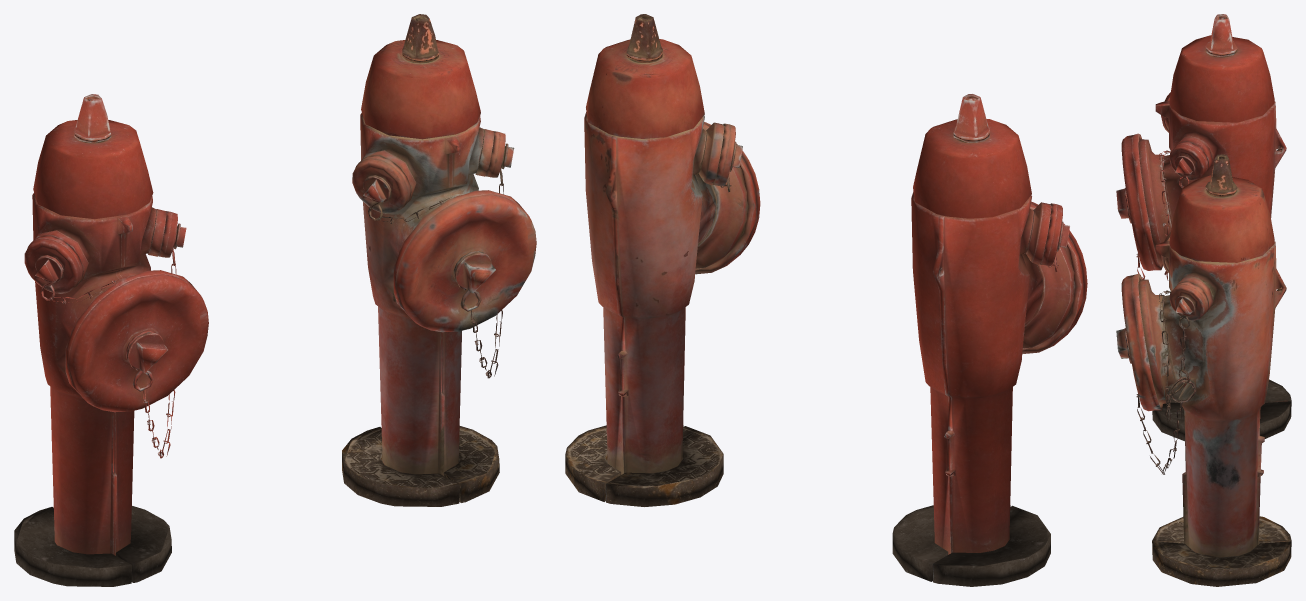
Rendered from fire_hydrant.glb.
3 renders of one model, left to right at view 1: azimuth 30°, elevation 25°; view 2: azimuth 150°, elevation 25°; view 3: azimuth 270°, elevation 25°, orthographic. The views are drawn at different scales.
Visible parts, largest first — view 1: fire_hydrant, fire_hydrant_aged, fire_hydrant_cap_01, fire_hydrant_cap_01_aged, fire_hydrant_cap_03, fire_hydrant_cap_03_aged, fire_hydrant_chain, fire_hydrant_chain_aged, fire_hydrant_cap_02_aged, fire_hydrant_cap_02; view 2: fire_hydrant, fire_hydrant_aged, fire_hydrant_cap_01, fire_hydrant_cap_01_aged, fire_hydrant_cap_03, fire_hydrant_cap_03_aged; view 3: fire_hydrant_aged, fire_hydrant, fire_hydrant_cap_01_aged, fire_hydrant_cap_01, fire_hydrant_chain_aged, fire_hydrant_cap_02, fire_hydrant_cap_02_aged, fire_hydrant_chain.
Part boxes in pixels (<box>): fire_hydrant: <box>14,94,171,586</box>; fire_hydrant_aged: <box>342,14,499,506</box>; fire_hydrant_cap_01: <box>65,270,208,412</box>; fire_hydrant_cap_01_aged: <box>393,190,536,332</box>; fire_hydrant_cap_03: <box>24,235,83,293</box>; fire_hydrant_cap_03_aged: <box>352,155,411,213</box>; fire_hydrant_chain: <box>40,233,176,458</box>; fire_hydrant_chain_aged: <box>368,148,504,378</box>; fire_hydrant_cap_02_aged: <box>486,131,514,177</box>; fire_hydrant_cap_02: <box>158,211,186,257</box>; fire_hydrant: <box>892,94,1075,586</box>; fire_hydrant_aged: <box>565,14,748,506</box>; fire_hydrant_cap_01: <box>1022,201,1087,353</box>; fire_hydrant_cap_01_aged: <box>695,122,760,274</box>; fire_hydrant_cap_03: <box>1040,203,1069,266</box>; fire_hydrant_cap_03_aged: <box>713,123,742,186</box>; fire_hydrant_aged: <box>1139,154,1291,586</box>; fire_hydrant: <box>1139,14,1291,441</box>; fire_hydrant_cap_01_aged: <box>1116,273,1162,411</box>; fire_hydrant_cap_01: <box>1116,133,1162,270</box>; fire_hydrant_chain_aged: <box>1136,290,1196,474</box>; fire_hydrant_cap_02: <box>1169,141,1208,180</box>; fire_hydrant_cap_02_aged: <box>1169,281,1208,320</box>; fire_hydrant_chain: <box>1136,150,1190,280</box>.
Size of the model in its own units: 0.8745 by 0.7992 by 0.3173.
2 materials, 2 textured.
